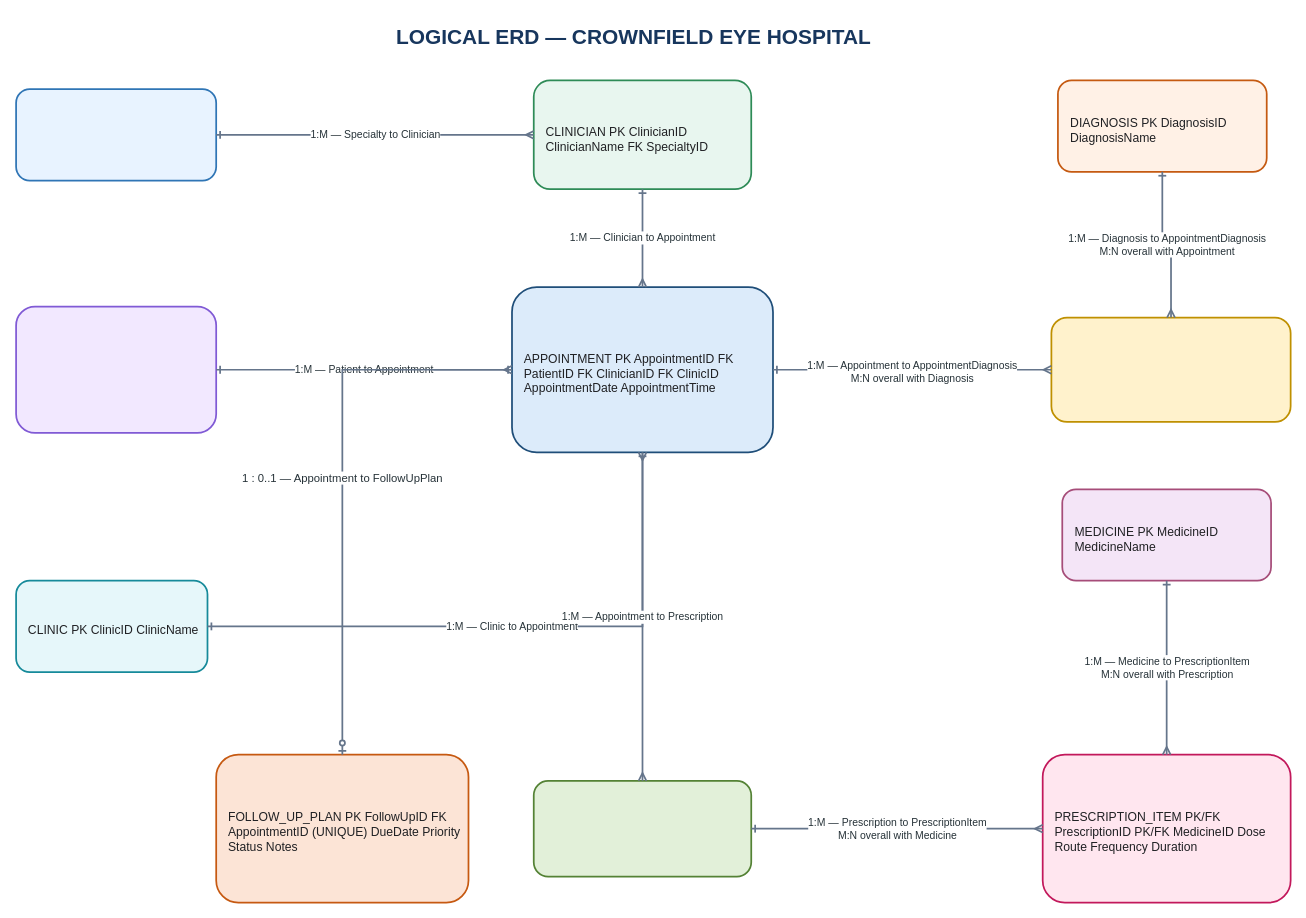
Image size: 1306x918. Some labels were removed from this diagram. The shapes that lost their labels are listed below. From the top down, each one's box as (x1, y1, x2, y2) in pixels, then its label:
(15, 88, 217, 181): SPECIALTY PK SpecialtyID UQ SpecialtyName
(15, 305, 217, 433): PATIENT PK PatientID FirstName LastName Postcode
(1050, 316, 1291, 422): APPOINTMENT_DIAGNOSIS PK/FK AppointmentID PK/FK DiagnosisID
(532, 780, 752, 877): PRESCRIPTION PK PrescriptionID FK AppointmentID
